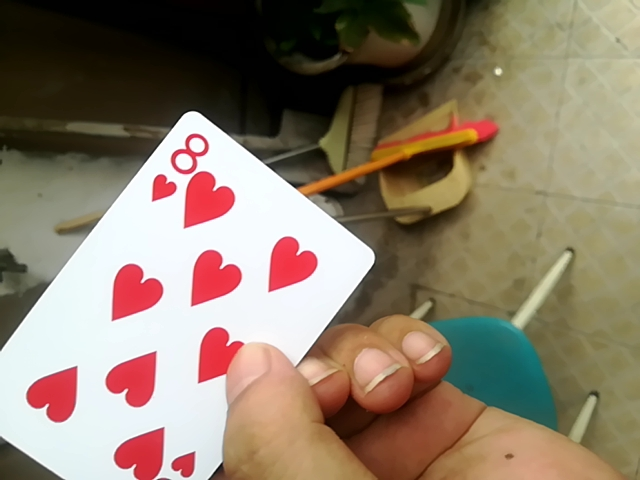hx 8: (1, 110, 374, 480)
